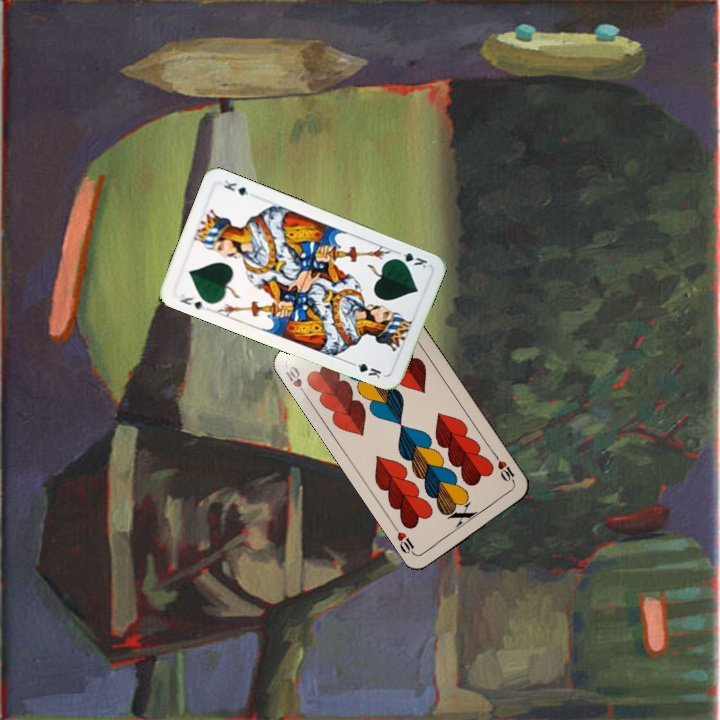GK: (390, 247, 430, 271), (176, 290, 211, 314)
H10: (281, 362, 310, 400), (490, 451, 518, 487)
